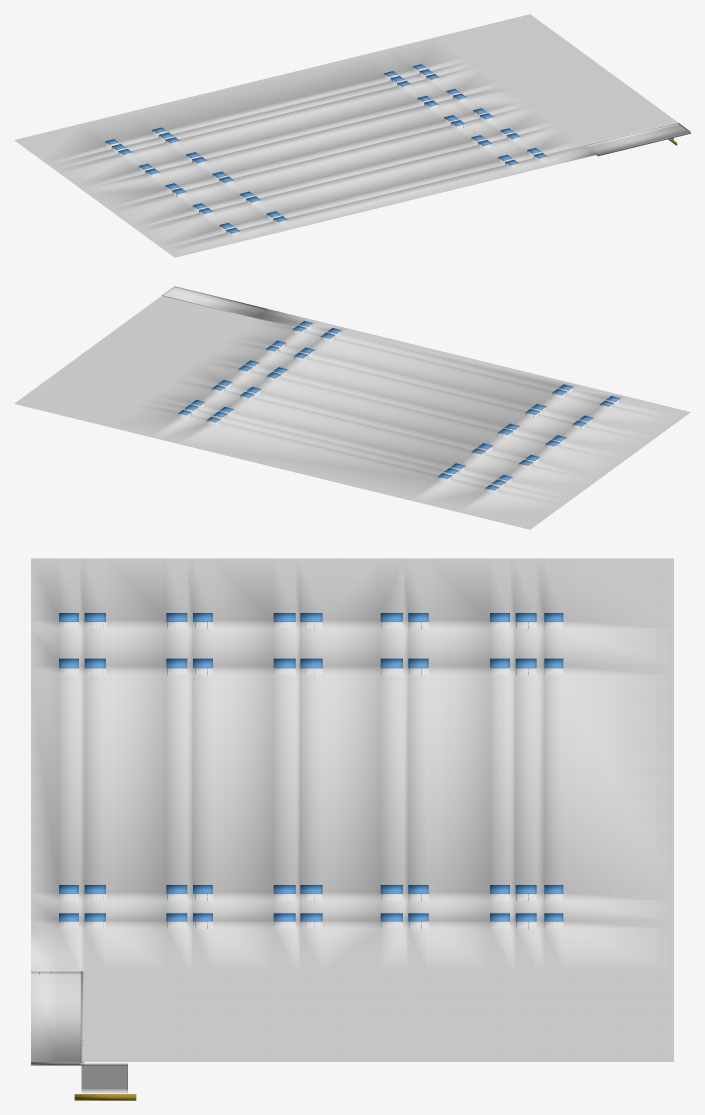
Rendered from TELLUS_arena_ROOF_001.FBX.
The picture shows the model from 3 angles, top to bottom: view 1: azimuth 30°, elevation 25°; view 2: azimuth 150°, elevation 25°; view 3: azimuth 270°, elevation 25°; orthographic projection. The views are drawn at different scales.
Visible parts, largest first — view 1: TELLUS_arena_ROOF_001; view 2: TELLUS_arena_ROOF_001; view 3: TELLUS_arena_ROOF_001.
Boxes of the visible parts, x1,y1,x2,y2 form: TELLUS_arena_ROOF_001: [14, 14, 690, 257]; TELLUS_arena_ROOF_001: [14, 286, 690, 529]; TELLUS_arena_ROOF_001: [31, 558, 673, 1100].
Bounding box in the file's own units: 6654 × 3590 × 299.
